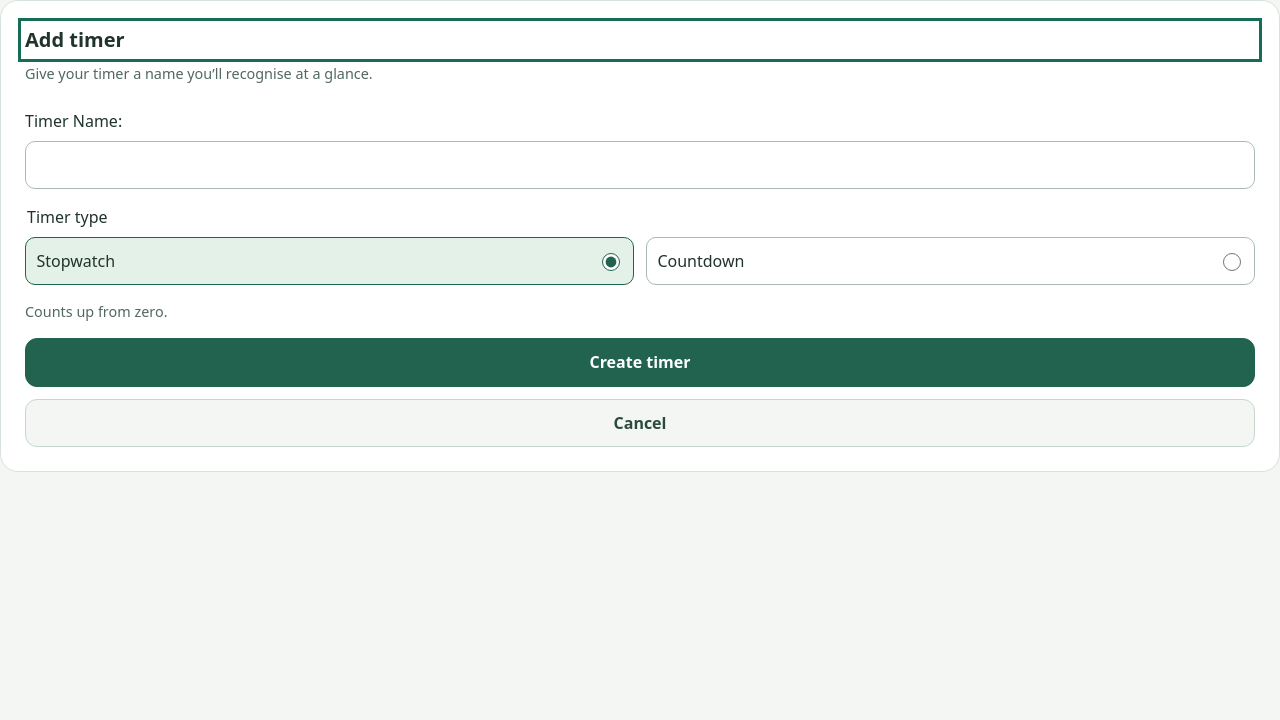
it: Timer Form Rendering › does render the duration field if Countdown is selected
The width and height of the screenshot is (1280, 720).
Step 1. Click the radio button labelled "Countdown" → (1232, 262), box [1223,253,1241,271]
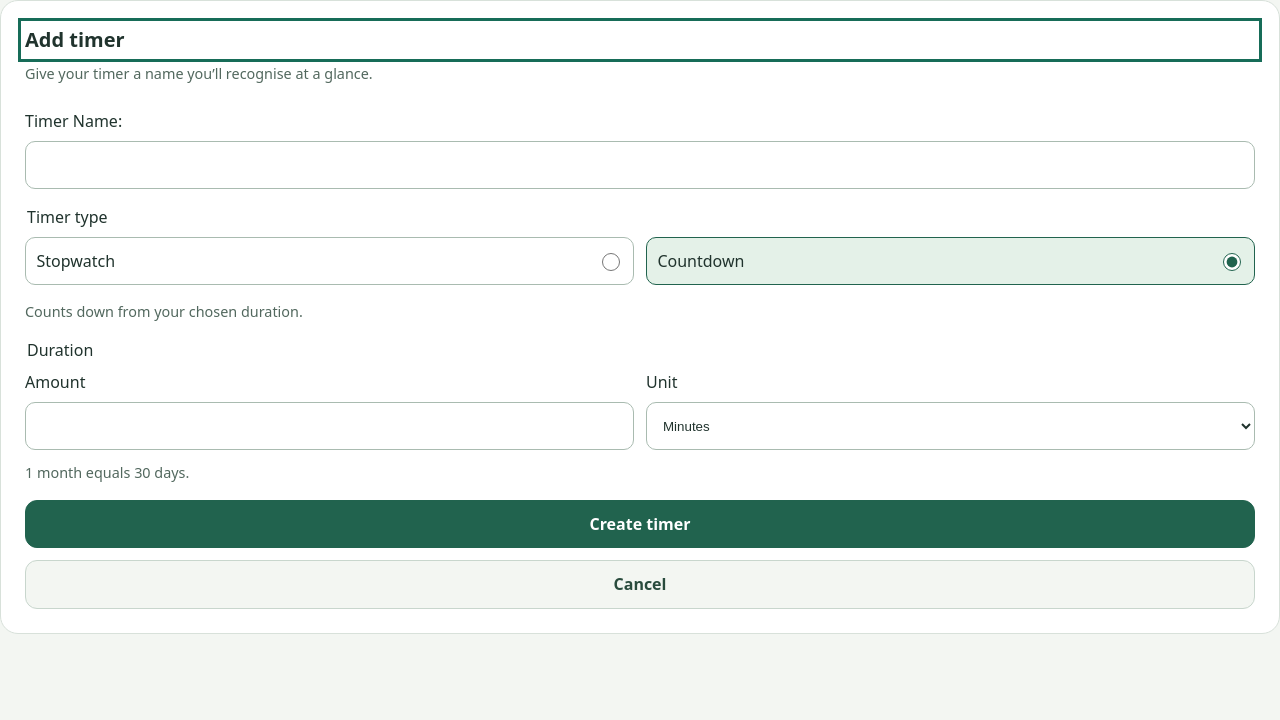
Result: the number field labelled "Amount" is shown at [25,402,634,450]
Result: the dropdown labelled "Unit" shows "Minutes" at [646,402,1255,450]
